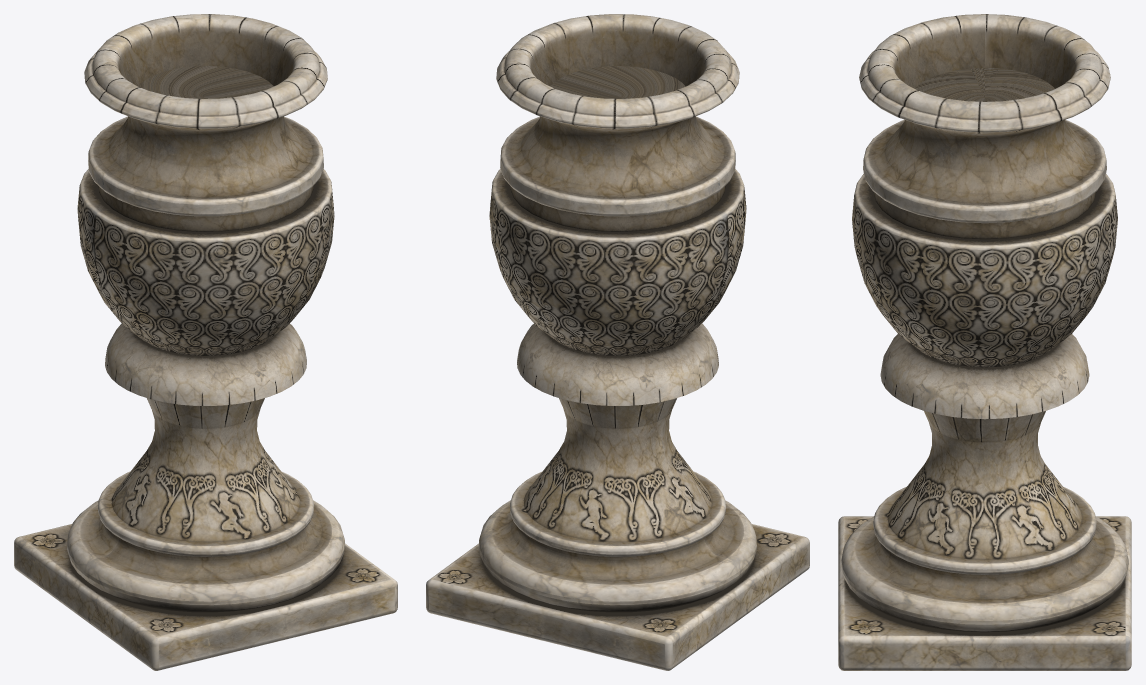
File: vase_flower_pot_-_5mb.glb
The picture shows the model from 3 angles, left to right: view 1: azimuth 30°, elevation 25°; view 2: azimuth 150°, elevation 25°; view 3: azimuth 270°, elevation 25°; orthographic projection. The views are drawn at different scales.
Parts seen in each view (by area): view 1: vase_Flower_Pot_; view 2: vase_Flower_Pot_; view 3: vase_Flower_Pot_.
Boxes of the visible parts, x1,y1,x2,y2 form: vase_Flower_Pot_: [14, 14, 397, 670]; vase_Flower_Pot_: [426, 14, 809, 670]; vase_Flower_Pot_: [838, 14, 1131, 670].
Size of the model in its own units: 0.4569 by 0.9467 by 0.4569.
Materials: 1 (1 with a texture image).
